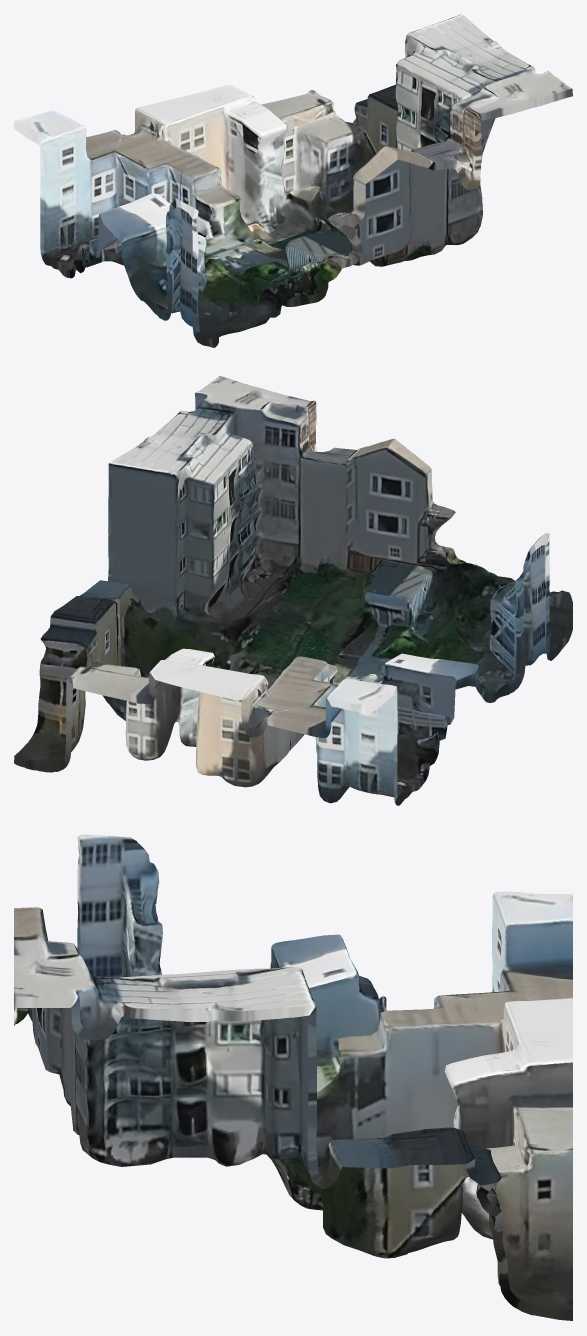
Rendered from z20-167740-405194-h0-yup-uvflip-v3-world.glb.
3 renders of one model, top to bottom at view 1: azimuth 30°, elevation 25°; view 2: azimuth 150°, elevation 25°; view 3: azimuth 270°, elevation 25°, orthographic. The views are drawn at different scales.
Bounding box in the file's own units: 30.2 × 19.84 × 30.32.
Materials: 1 (1 with a texture image).
